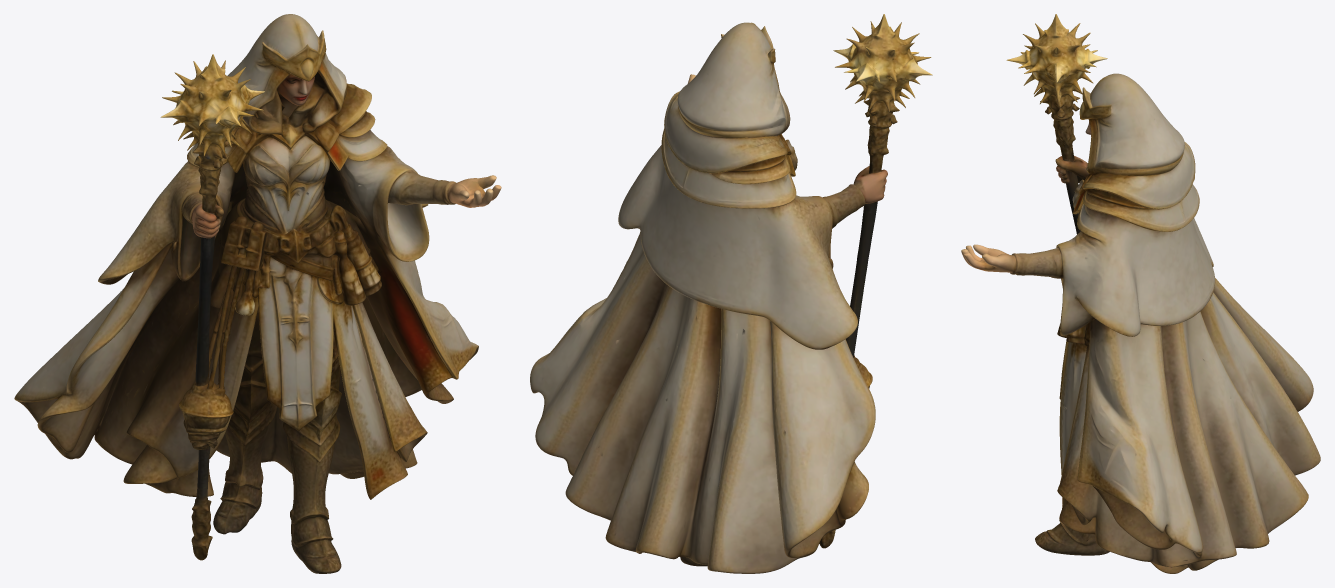
Rendered from cleric_full_female_01.glb.
The picture shows the model from 3 angles, left to right: view 1: azimuth 30°, elevation 25°; view 2: azimuth 150°, elevation 25°; view 3: azimuth 270°, elevation 25°; orthographic projection. The views are drawn at different scales.
Parts seen in each view (by area): view 1: material; view 2: material; view 3: material.
Boxes of the visible parts, x1,y1,x2,y2 form: material: [14, 14, 501, 573]; material: [530, 14, 932, 573]; material: [961, 14, 1320, 573].
Bounding box in the file's own units: 0.8075 × 1.06 × 0.7122.
1 material, 1 textured.
